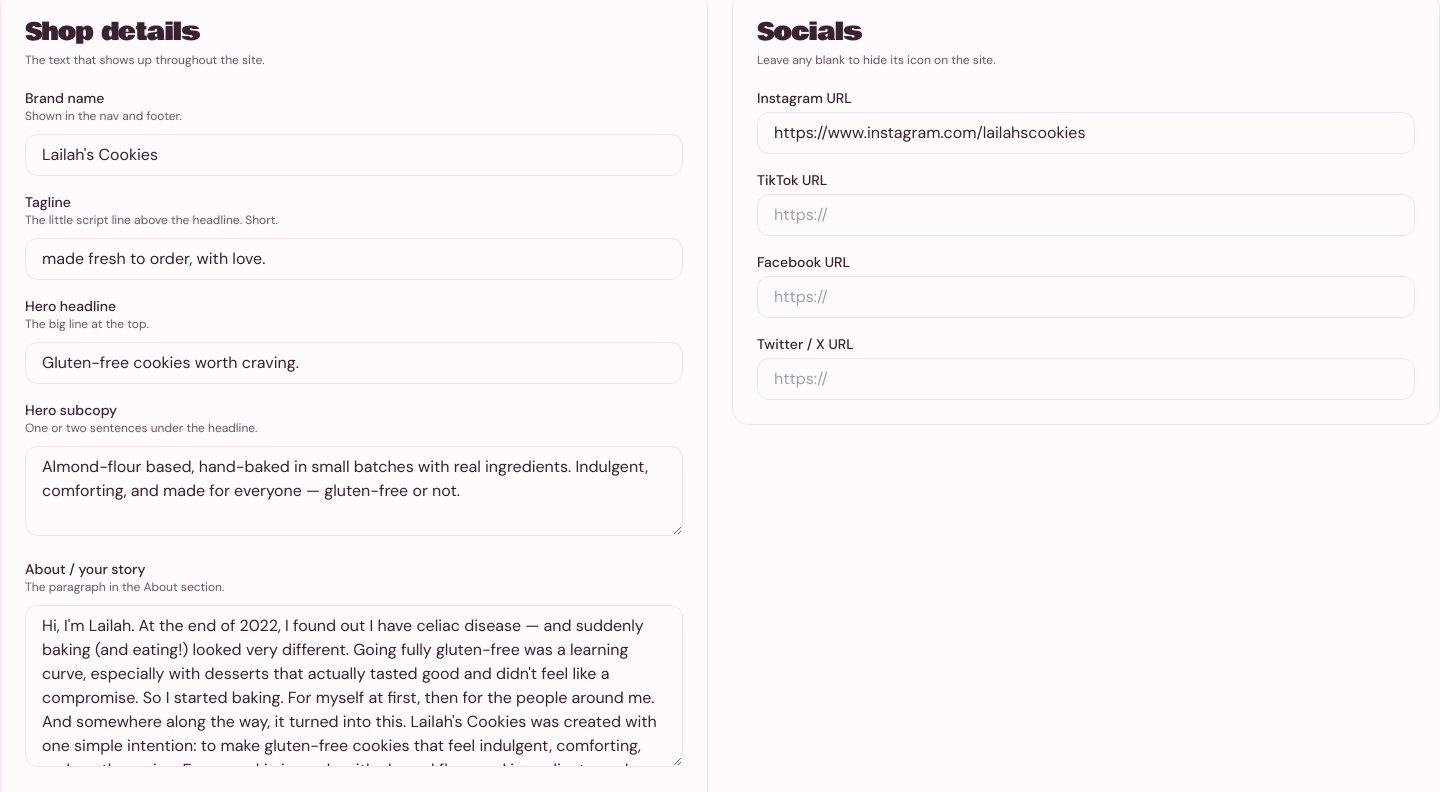
Test: contract: Info editor ↔ public components › editing the brand name updates Footer
Replace the text in the field labelled "Brand name Shown in the nav and footer." with "Lailah's Test Cookies" at point(354, 155), box [25,134,683,176]
(page scrolled)
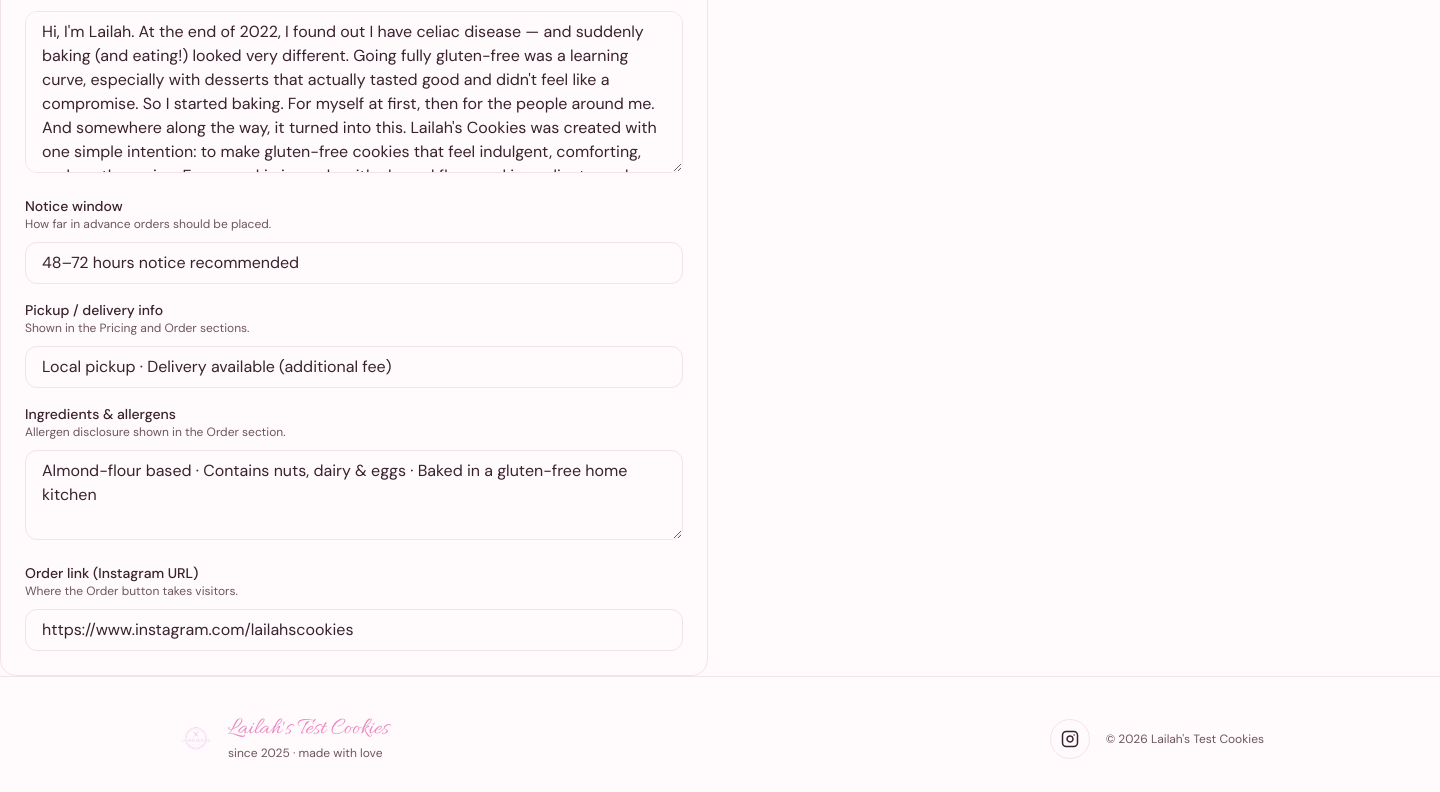
expect the text "Lailah's Test Cookies" is shown: met, box [228,717,389,741]
